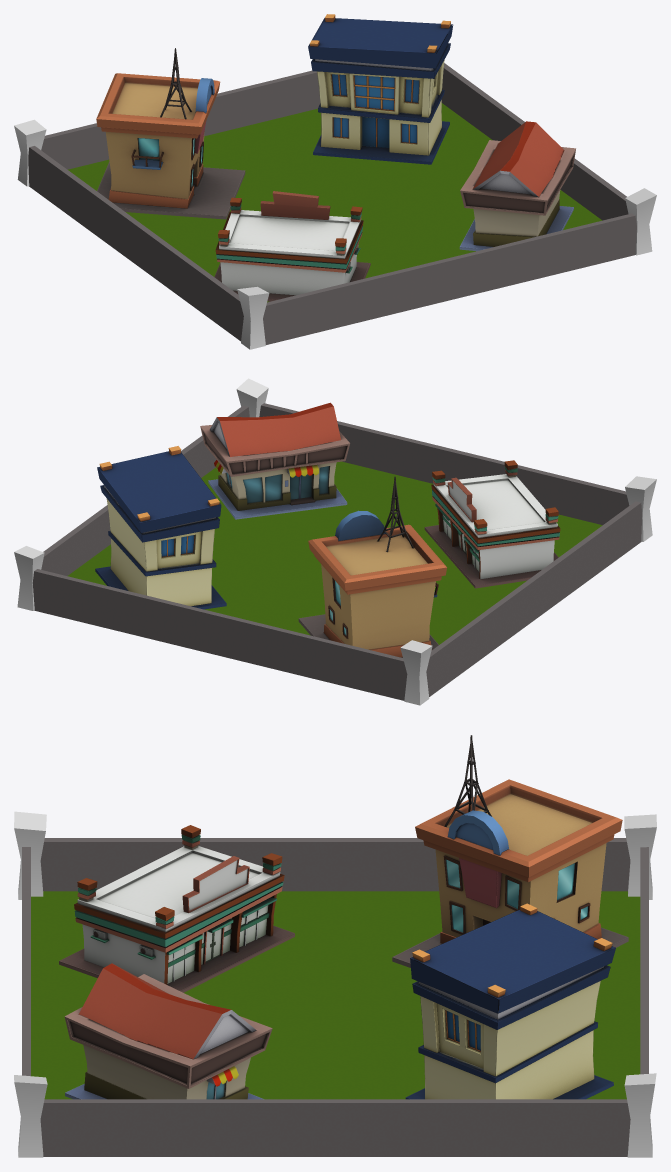
Rendered from Test_Scane02_new.FBX.
3 views of the same model, one above another, from view 1: azimuth 30°, elevation 25°; view 2: azimuth 150°, elevation 25°; view 3: azimuth 270°, elevation 25° (orthographic). The views are drawn at different scales.
Parts seen in each view (by area): view 1: Wall01, Ground, Building01, Building04, Building03, Building02, Wall02; view 2: Wall01, Ground, Building01, Building04, Building02, Building03, Wall02; view 3: Wall01, Ground, Building01, Building04, Building03, Building02, Wall02.
Boxes of the visible parts, x1,y1,x2,y2 form: Wall01: (28, 63, 636, 344); Ground: (68, 103, 602, 302); Building01: (308, 14, 453, 164); Building04: (96, 48, 245, 219); Building03: (214, 191, 370, 301); Building02: (459, 121, 575, 251); Wall02: (14, 119, 656, 349); Wall01: (32, 403, 642, 700); Ground: (67, 461, 602, 644); Building01: (95, 446, 226, 609); Building04: (298, 476, 447, 657); Building02: (200, 402, 350, 519); Building03: (424, 460, 560, 588); Wall02: (14, 378, 656, 705); Wall01: (22, 838, 648, 1156); Ground: (31, 891, 640, 1099); Building01: (405, 903, 615, 1099); Building04: (392, 735, 628, 967); Building03: (59, 825, 294, 992); Building02: (64, 963, 272, 1099); Wall02: (14, 811, 656, 1157).
Size of the model in its own units: 148 by 54.97 by 148.
